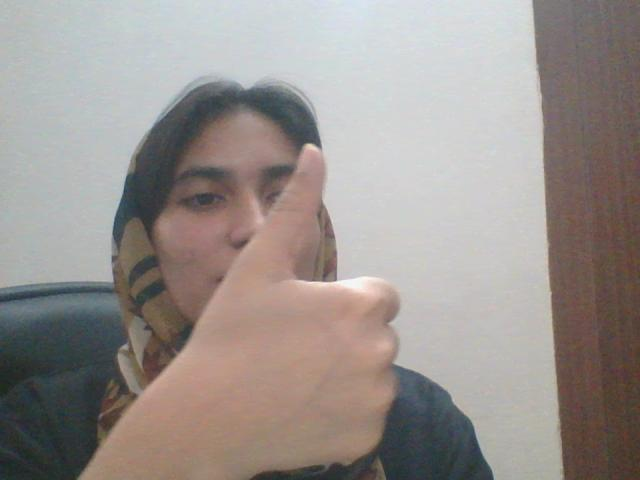thumbs-up: (215, 140, 405, 480)
